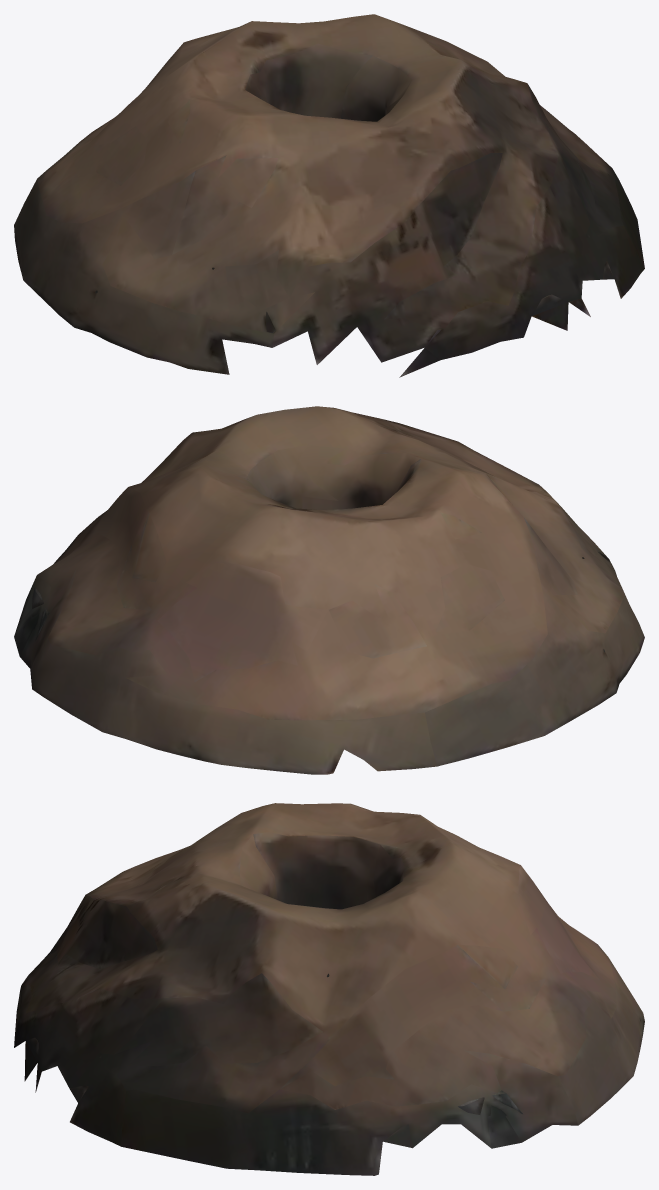
File: dirt_bunny_hole.glb
3 renders of one model, top to bottom at view 1: azimuth 30°, elevation 25°; view 2: azimuth 150°, elevation 25°; view 3: azimuth 270°, elevation 25°, orthographic. The views are drawn at different scales.
Visible parts, largest first — view 1: world; view 2: world; view 3: world.
Part boxes in pixels (box(x1,y1,x2,y2)): world: box(14, 14, 644, 377); world: box(14, 406, 644, 774); world: box(14, 803, 644, 1175).
Bounding box in the file's own units: 0.5 × 0.162 × 0.4903.
Materials: 1 (1 with a texture image).
